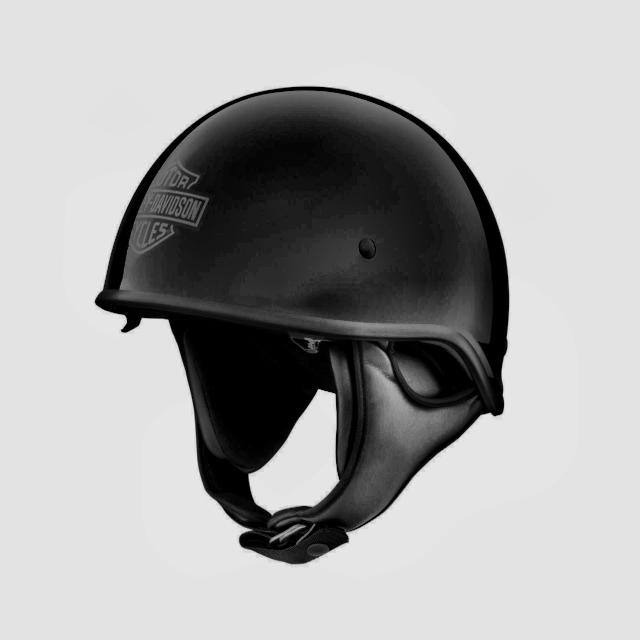Helmet: (87, 81, 529, 584)
